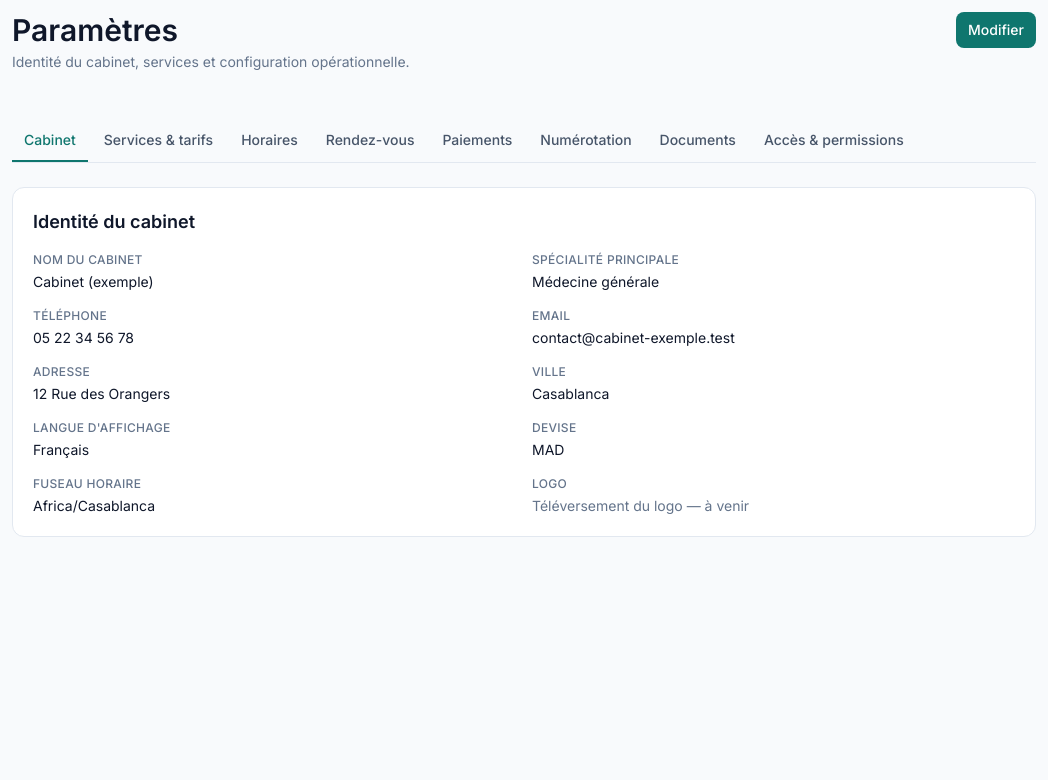
Test: CabinetSettingsPage › saving valid changes returns to view mode showing the updated value
Click the button "Modifier" at (996, 30), box top-left (956, 12), bottom-right (1036, 48)
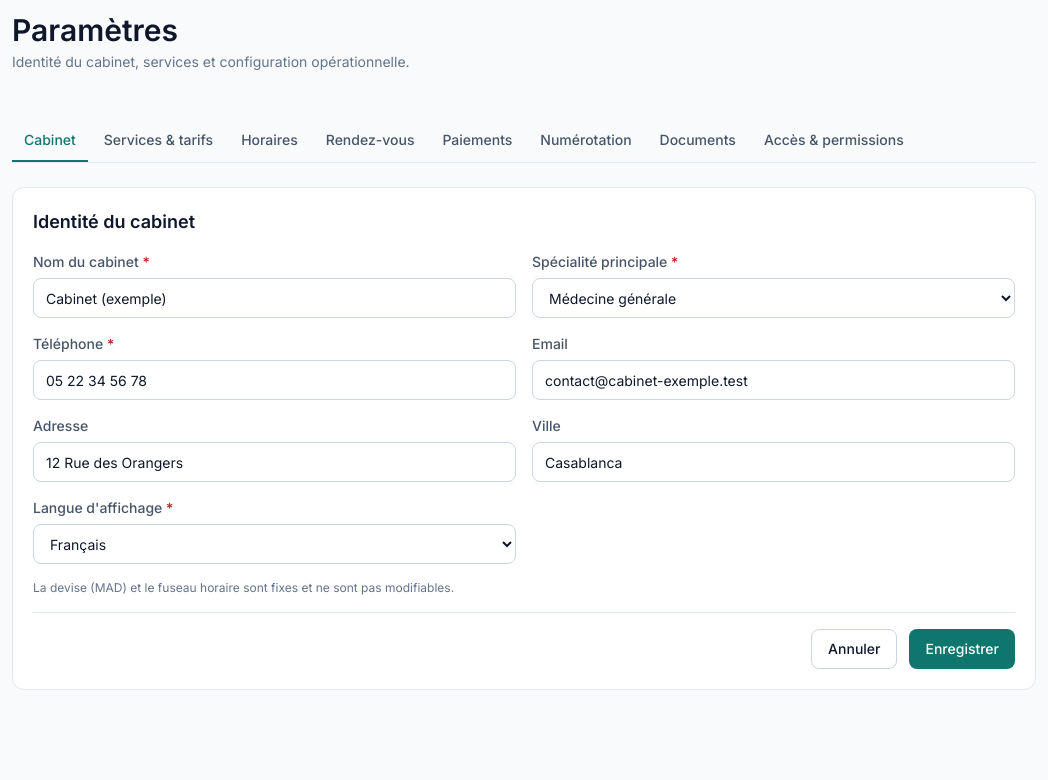
Replace the text in the field labelled "Nom du cabinet *" with "Cabinet Al Amal" at (274, 298), box top-left (33, 278), bottom-right (516, 318)
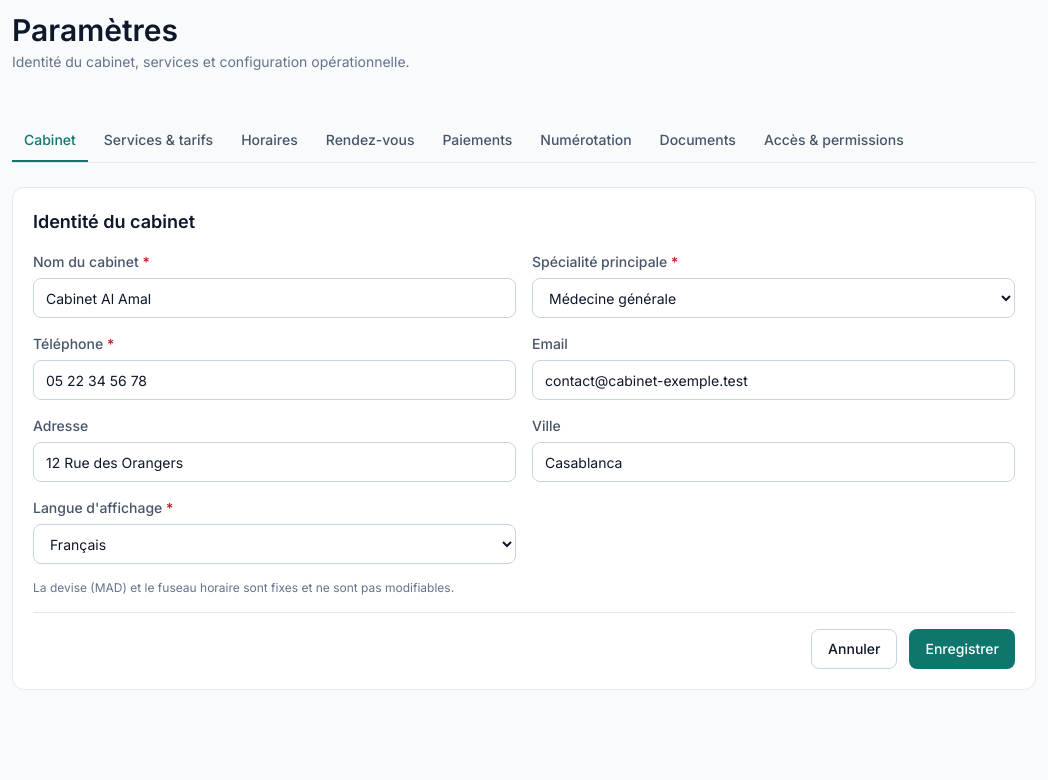
Click the button "Enregistrer" at (962, 649), box top-left (910, 629), bottom-right (1015, 669)
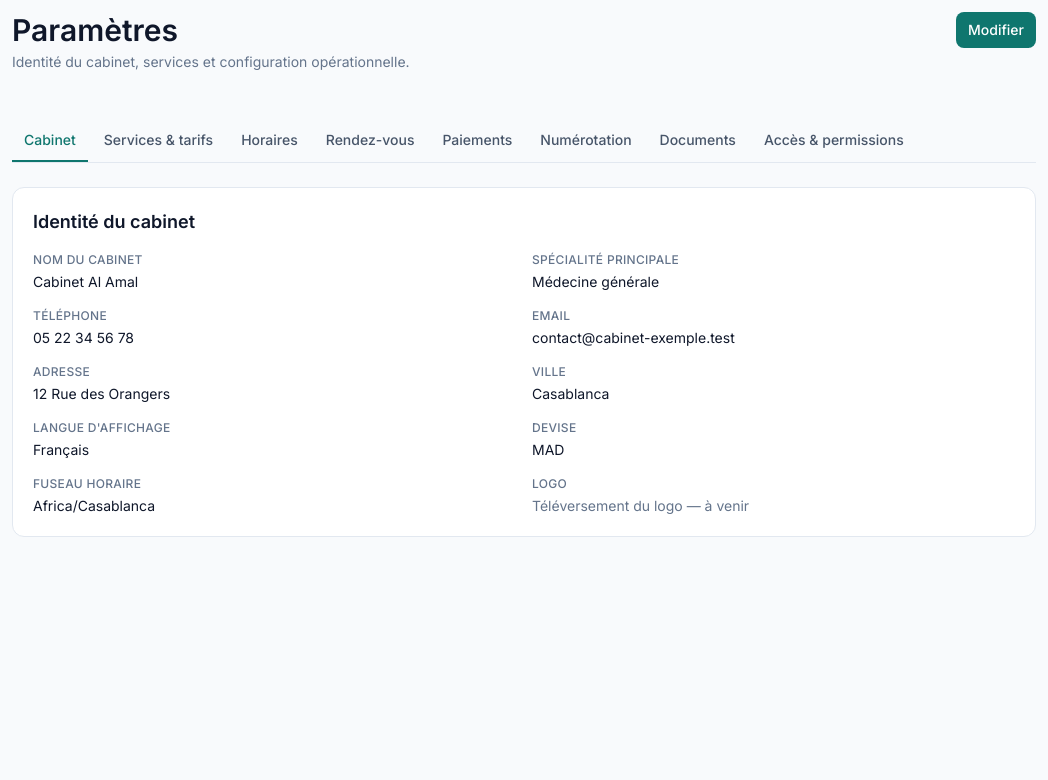
Check: the text "MAD" is shown, box top-left (532, 441), bottom-right (564, 458)
Check: the text "Cabinet Al Amal" is shown, box top-left (33, 273), bottom-right (138, 290)
